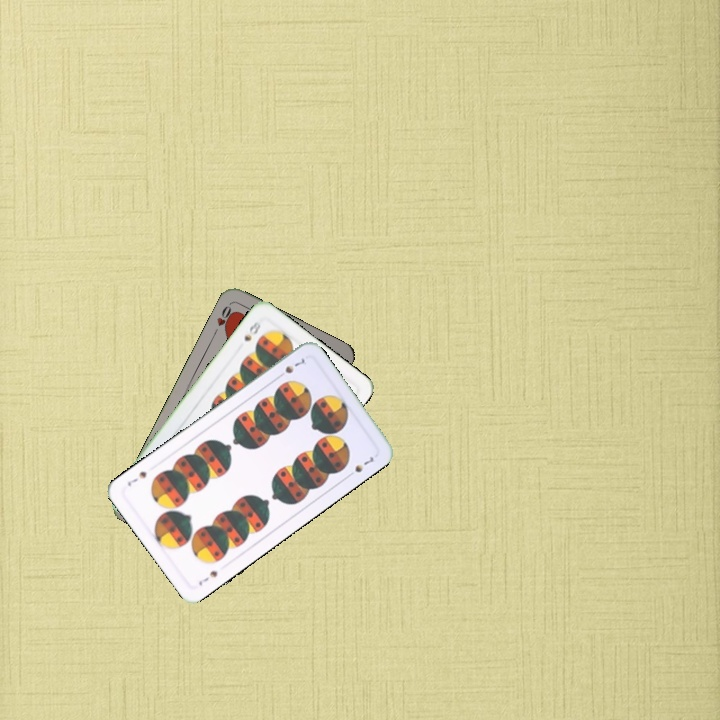HO: (209, 301, 237, 338)
S7: (273, 355, 308, 381), (194, 566, 220, 588)
S8: (240, 317, 263, 344)
